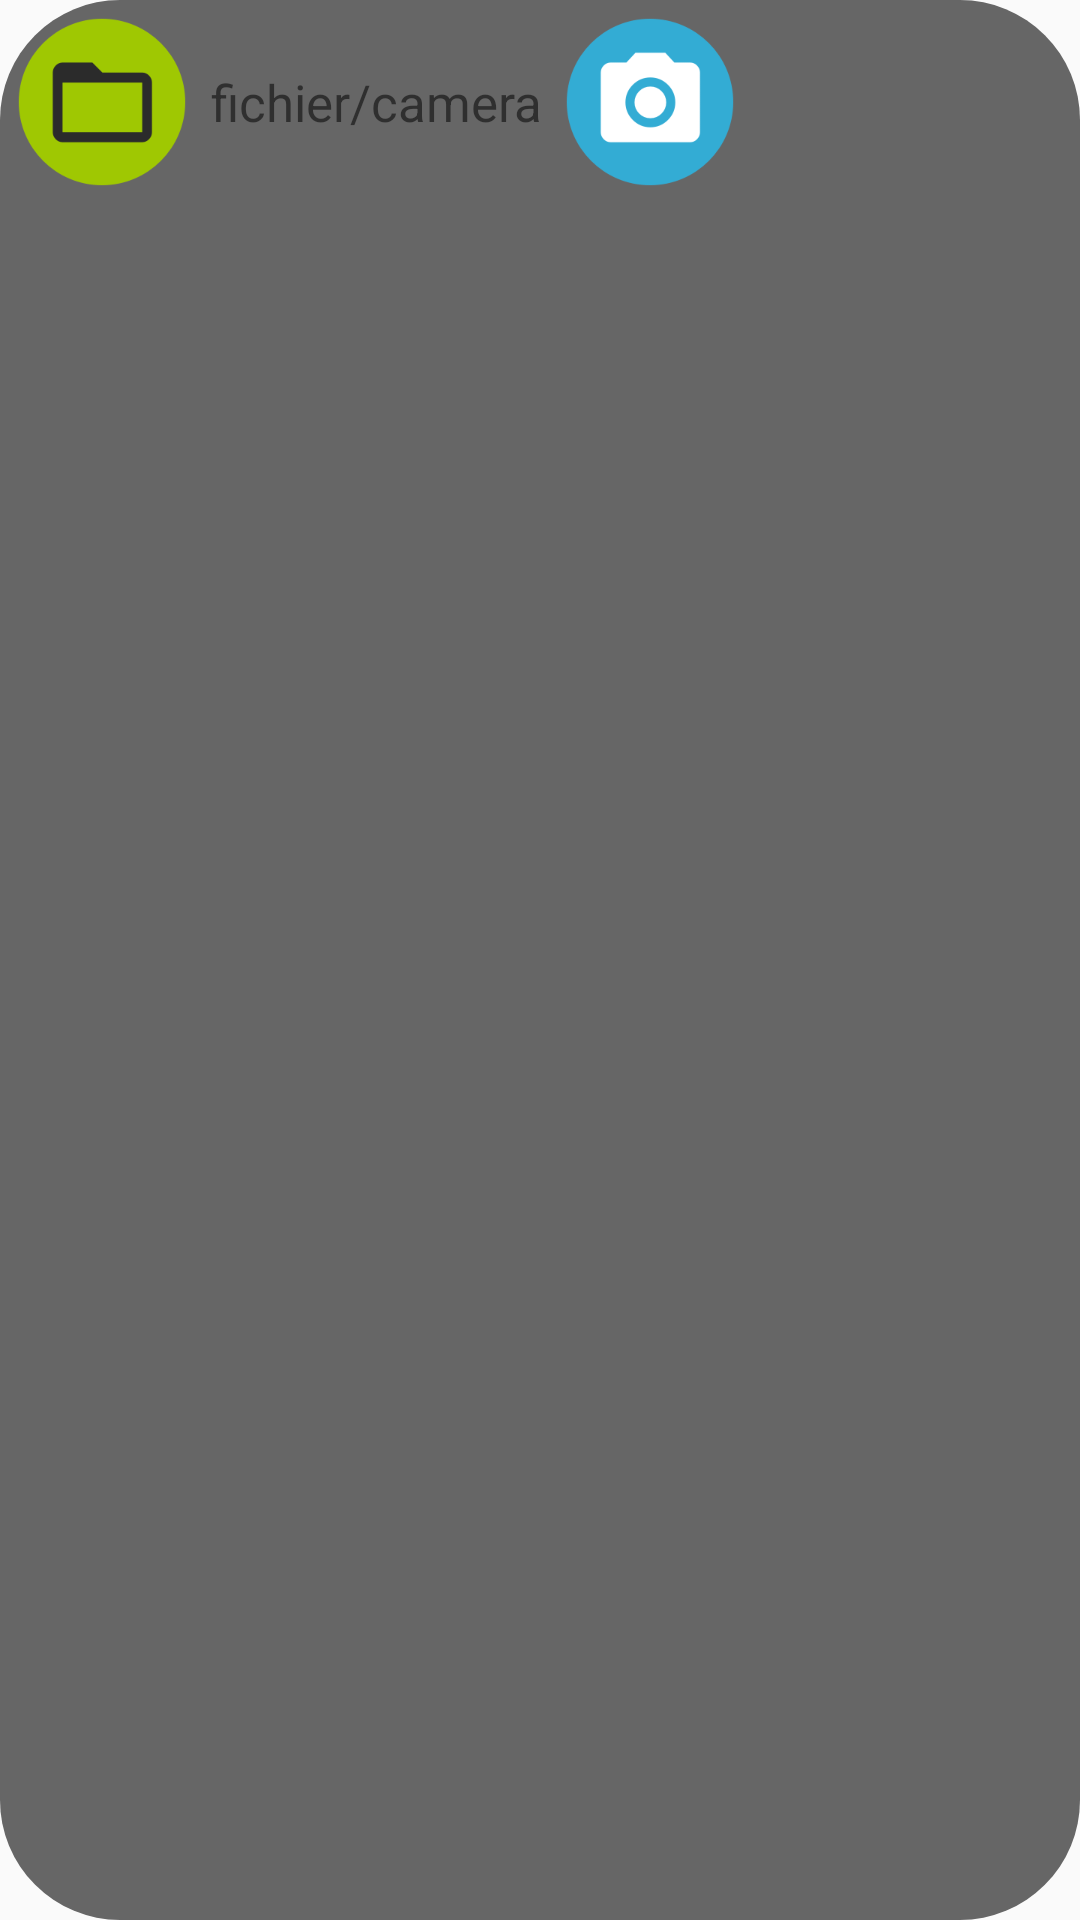

Icons on this 1080px x 1920px Android screen, each with the point to tap as [x,y]:
take photo: [650,102]
upload photo: [102,102]
